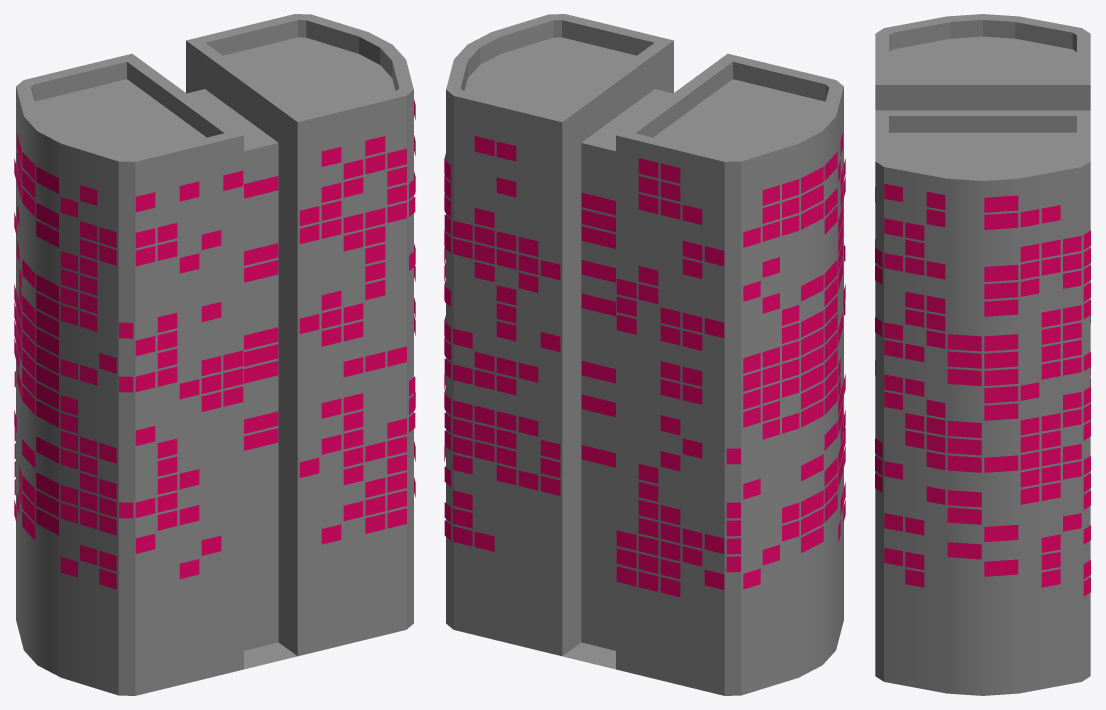
File: obj_bbuilding001.FBX
The picture shows the model from 3 angles, left to right: view 1: azimuth 30°, elevation 25°; view 2: azimuth 150°, elevation 25°; view 3: azimuth 270°, elevation 25°; orthographic projection. The views are drawn at different scales.
Parts seen in each view (by area): view 1: bbuilding001, Object004; view 2: bbuilding001, Object004; view 3: bbuilding001, Object004.
Part boxes in pixels (x1,y1,x2,y2): bbuilding001: [16, 14, 413, 695]; Object004: [14, 99, 415, 589]; bbuilding001: [446, 14, 843, 695]; Object004: [444, 133, 845, 596]; bbuilding001: [875, 14, 1090, 695]; Object004: [875, 184, 1090, 596].
Bounding box in the file's own units: 16289 × 23200 × 8888.
